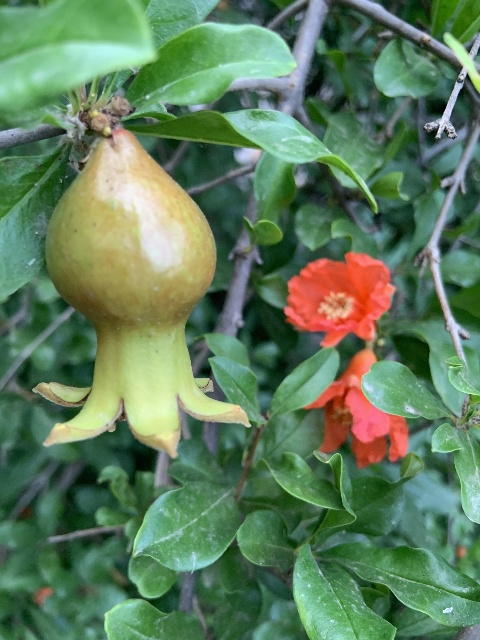early-fruit: (30, 131, 243, 459)
flower: (301, 346, 408, 467), (283, 250, 394, 347)
